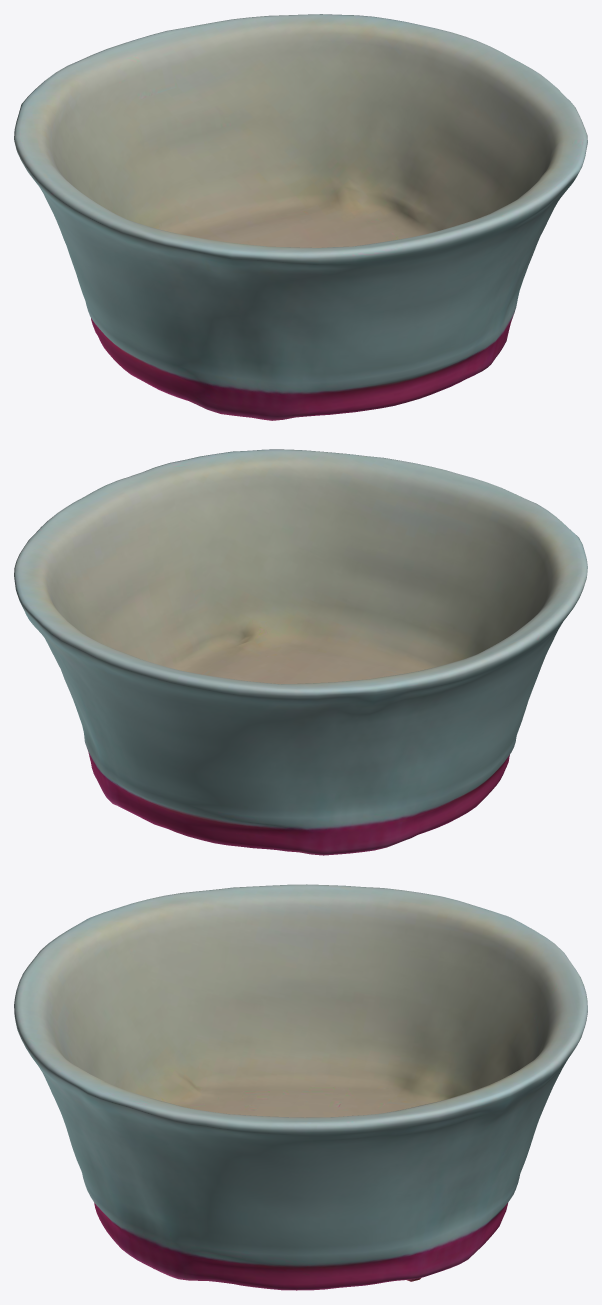
Rendered from 7a4c7999da73_pastry_plate_bowl_l.fbx.
3 renders of one model, top to bottom at view 1: azimuth 30°, elevation 25°; view 2: azimuth 150°, elevation 25°; view 3: azimuth 270°, elevation 25°, orthographic.
Visible parts, largest first — view 1: mesh; view 2: mesh; view 3: mesh.
Boxes of the visible parts, left/top/right/bottom form: mesh: left=14, top=14, right=587, bottom=420; mesh: left=14, top=449, right=587, bottom=855; mesh: left=14, top=884, right=587, bottom=1290.
Bounding box in the file's own units: 99.57 × 43.27 × 99.74.
